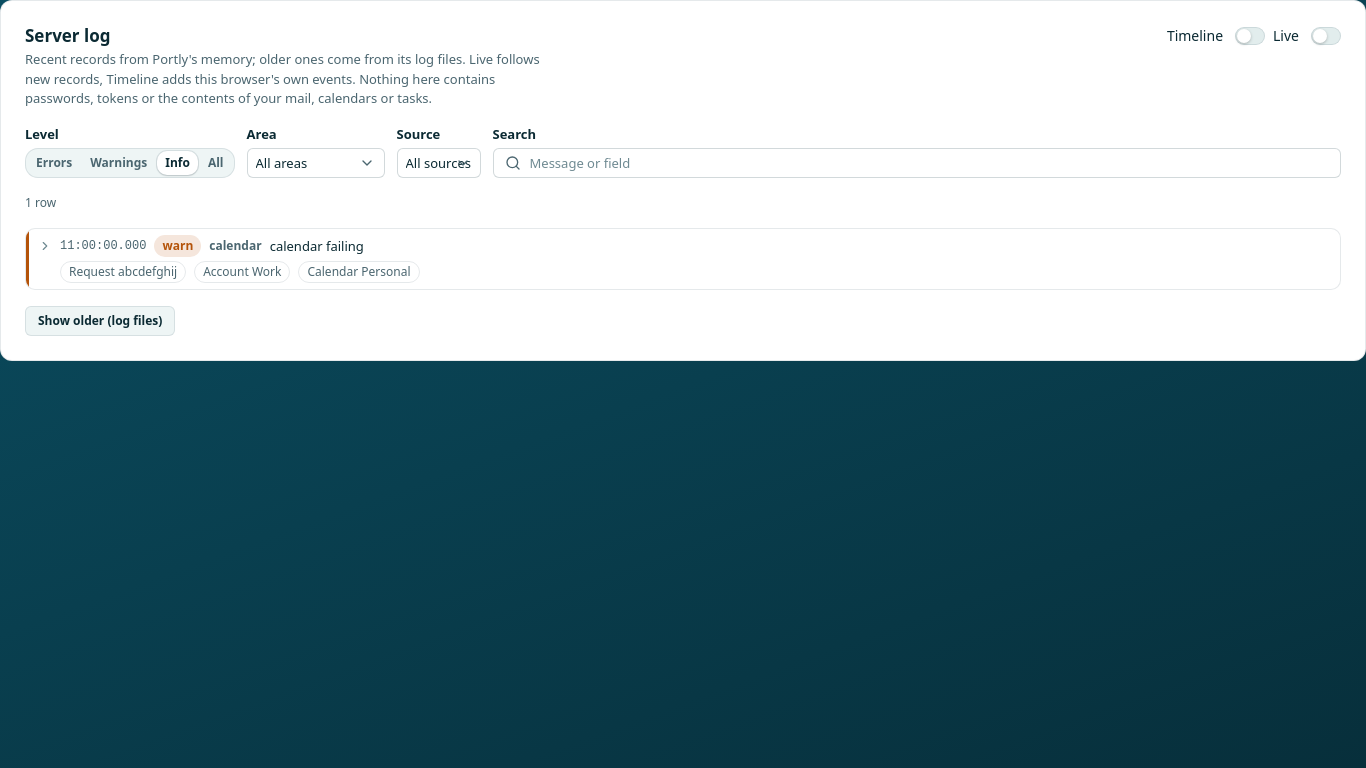
Test: ServerLogPanel › keeps offering older records while the files have more (the scan was cut short)
The image size is (1366, 768).
Expected: the text "calendar failing" is shown, [270,236,364,254]
Click the button "Show older (log files)": (100, 321) [25,306,175,336]
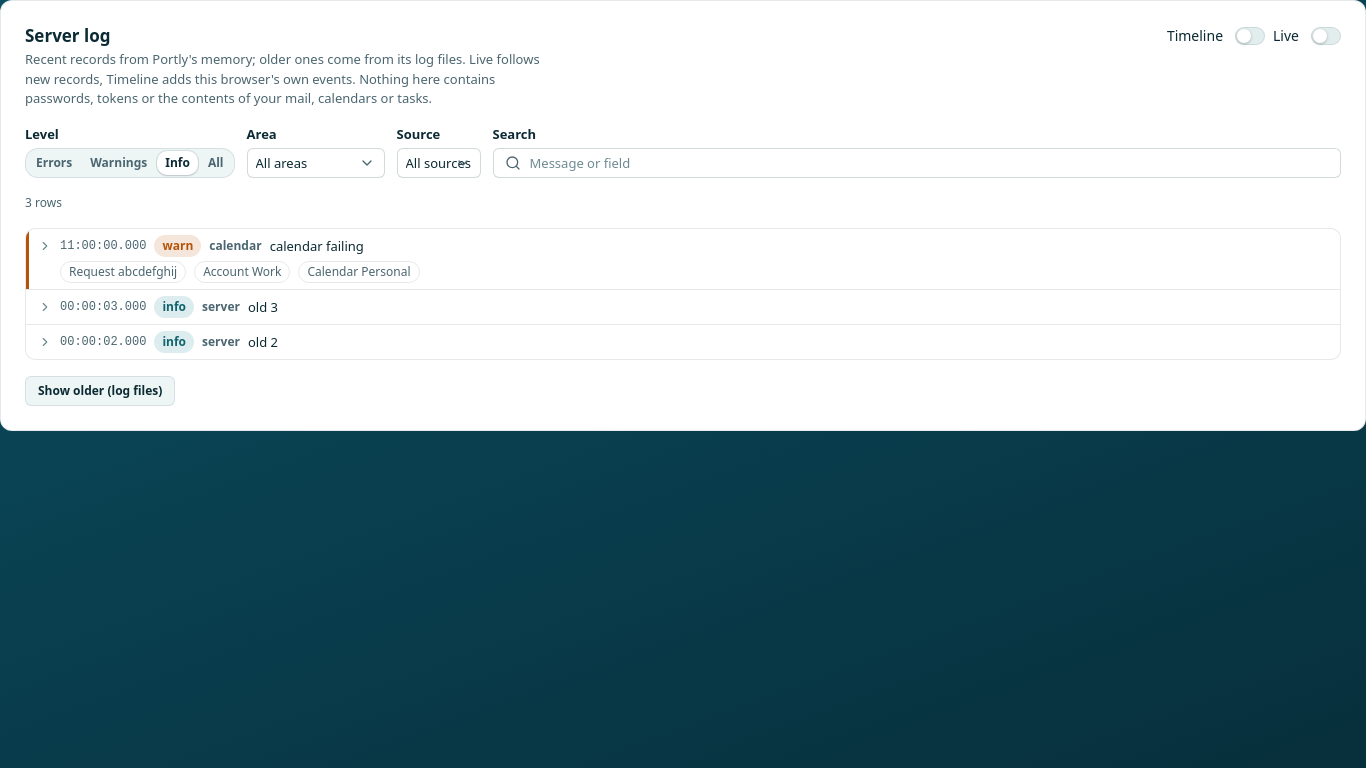
Expected: the text "old 2" is shown, [248,332,278,350]
Click the button "Show older (log files)": (100, 391) [25,376,175,406]
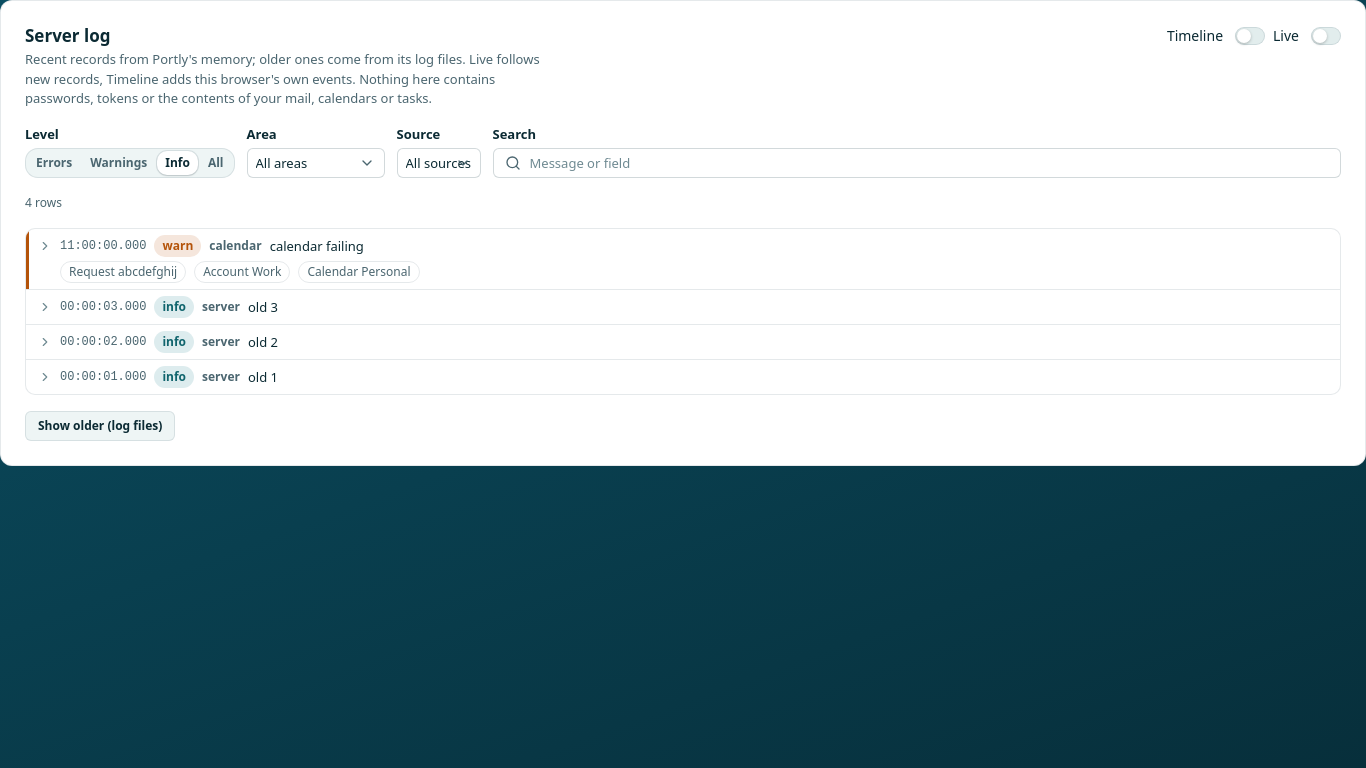
Expected: the button "Show older (log files)" is shown, [25,411,175,441]
Expected: the text "old 1" is shown, [248,368,278,386]
